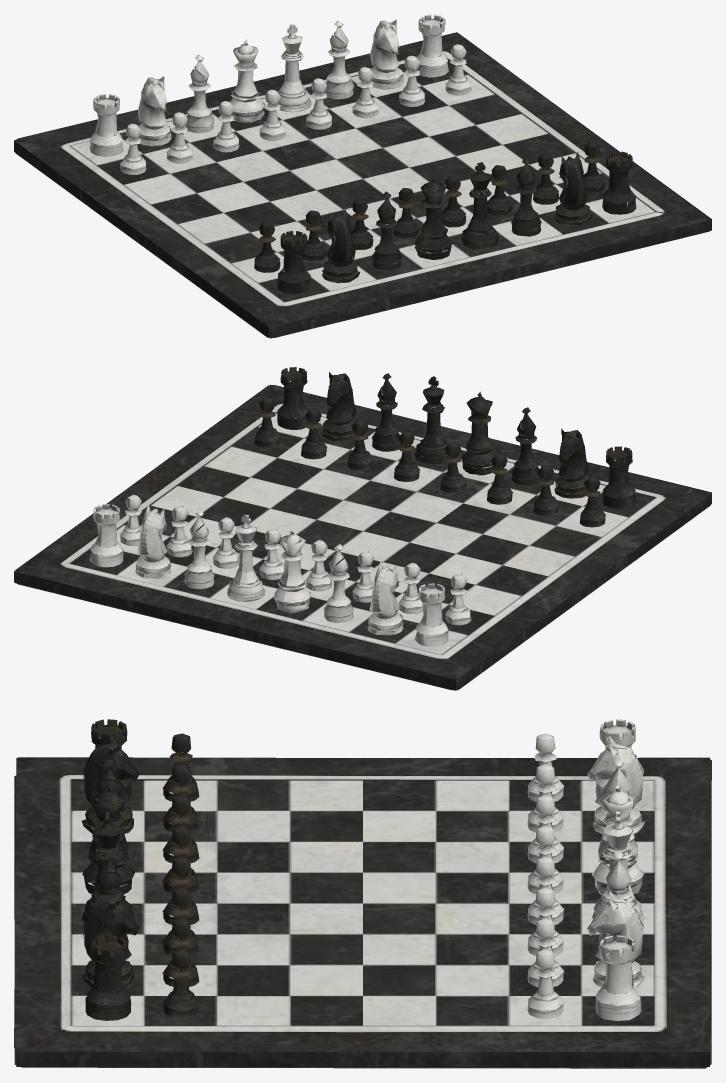
The model's file is chess_set.glb.
3 views of the same model, one above another, from view 1: azimuth 30°, elevation 25°; view 2: azimuth 150°, elevation 25°; view 3: azimuth 270°, elevation 25° (orthographic). The views are drawn at different scales.
Visible parts, largest first — view 1: board, piece_queen_black, piece_knight_black_01, piece_knight_black_02, piece_queen_white, piece_king_black, piece_knight_white_01, piece_knight_white_02, piece_king_white, piece_rook_black_02, piece_rook_black_01, piece_rook_white_02 (+21 smaller); view 2: board, piece_queen_white, piece_knight_white_01, piece_knight_white_02, piece_queen_black, piece_knight_black_02, piece_knight_black_01, piece_king_white, piece_king_black, piece_rook_white_01, piece_rook_white_02, piece_rook_black_01 (+21 smaller); view 3: board, piece_rook_white_01, piece_rook_black_02, piece_knight_black_02, piece_knight_white_01, piece_knight_black_01, piece_knight_white_02, piece_queen_black, piece_queen_white, piece_pawn_white_01, piece_pawn_black_08, piece_king_white (+21 smaller).
Boxes of the visible parts, x1=… form: board: x1=14, y1=32, x2=711, y2=338; piece_queen_black: x1=414, y1=177, x2=452, y2=259; piece_knight_black_01: x1=322, y1=208, x2=359, y2=283; piece_knight_black_02: x1=554, y1=152, x2=592, y2=226; piece_queen_white: x1=230, y1=39, x2=264, y2=122; piece_king_black: x1=461, y1=162, x2=498, y2=249; piece_knight_white_01: x1=370, y1=20, x2=403, y2=89; piece_knight_white_02: x1=138, y1=76, x2=171, y2=146; piece_king_white: x1=277, y1=24, x2=311, y2=112; piece_rook_black_02: x1=602, y1=151, x2=636, y2=214; piece_rook_black_01: x1=277, y1=231, x2=310, y2=293; piece_rook_white_02: x1=89, y1=93, x2=123, y2=156; board: x1=14, y1=384, x2=711, y2=690; piece_queen_white: x1=273, y1=529, x2=310, y2=612; piece_knight_white_01: x1=135, y1=504, x2=171, y2=578; piece_knight_white_02: x1=367, y1=561, x2=403, y2=635; piece_queen_black: x1=461, y1=392, x2=496, y2=475; piece_knight_black_02: x1=322, y1=372, x2=356, y2=441; piece_knight_black_01: x1=554, y1=428, x2=588, y2=498; piece_king_white: x1=227, y1=514, x2=265, y2=601; piece_king_black: x1=414, y1=376, x2=448, y2=464; piece_rook_white_01: x1=89, y1=504, x2=123, y2=567; piece_rook_white_02: x1=414, y1=583, x2=448, y2=646; piece_rook_black_01: x1=602, y1=446, x2=636, y2=509; board: x1=14, y1=757, x2=711, y2=1068; piece_rook_white_01: x1=595, y1=935, x2=641, y2=1020; piece_rook_black_02: x1=85, y1=935, x2=131, y2=1020; piece_knight_black_02: x1=81, y1=890, x2=139, y2=987; piece_knight_white_01: x1=587, y1=890, x2=644, y2=987; piece_knight_black_01: x1=81, y1=736, x2=139, y2=833; piece_knight_white_02: x1=587, y1=736, x2=645, y2=833; piece_queen_black: x1=82, y1=784, x2=134, y2=894; piece_queen_white: x1=592, y1=784, x2=644, y2=894; piece_pawn_white_01: x1=527, y1=949, x2=564, y2=1018; piece_pawn_black_08: x1=162, y1=949, x2=199, y2=1018; piece_king_white: x1=592, y1=810, x2=644, y2=921.
Bounding box in the file's own units: 0.5538 × 0.1125 × 0.554.
Materials: 3 (3 with a texture image).
